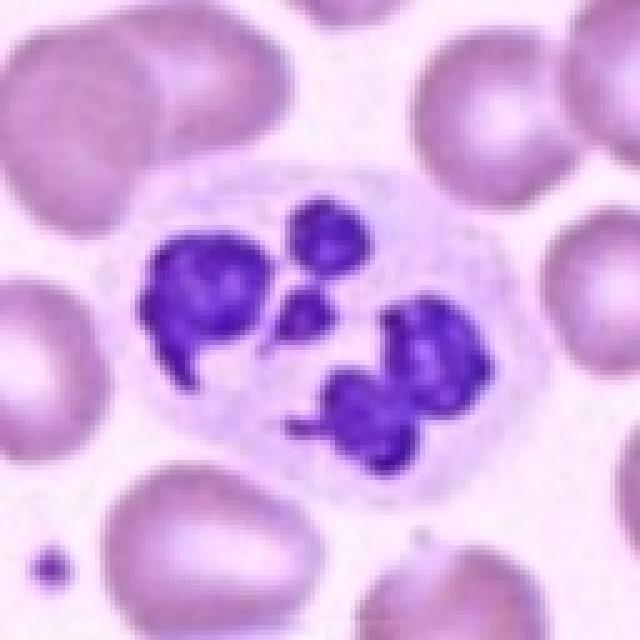neutro: (94, 101, 558, 557)
